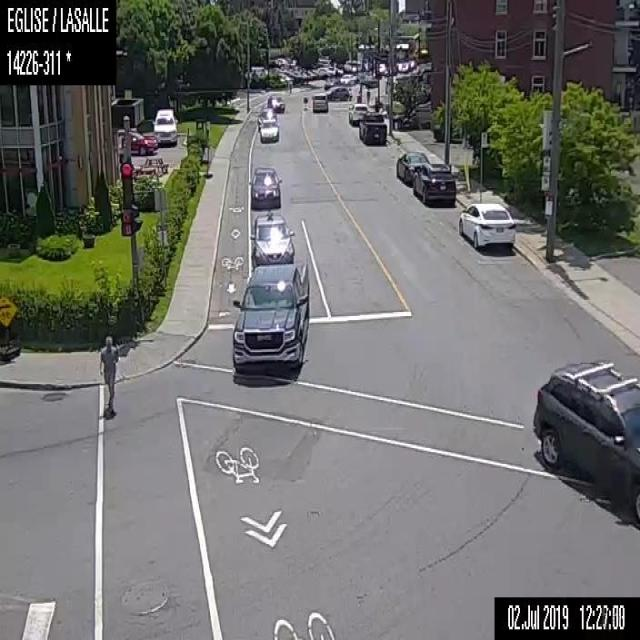pedestrian: (98, 335, 118, 416), (286, 78, 293, 94), (365, 86, 370, 102), (356, 91, 359, 104)
vehicle: (532, 358, 639, 526), (230, 259, 309, 372), (456, 200, 516, 251), (248, 208, 295, 264), (413, 164, 456, 205), (247, 164, 280, 208), (395, 150, 429, 185), (117, 128, 157, 154), (358, 113, 387, 145), (153, 107, 176, 145), (257, 114, 278, 142), (348, 102, 368, 125), (324, 85, 350, 101), (311, 92, 329, 112), (266, 94, 284, 113), (340, 72, 360, 86), (258, 104, 274, 118), (314, 65, 332, 75)
